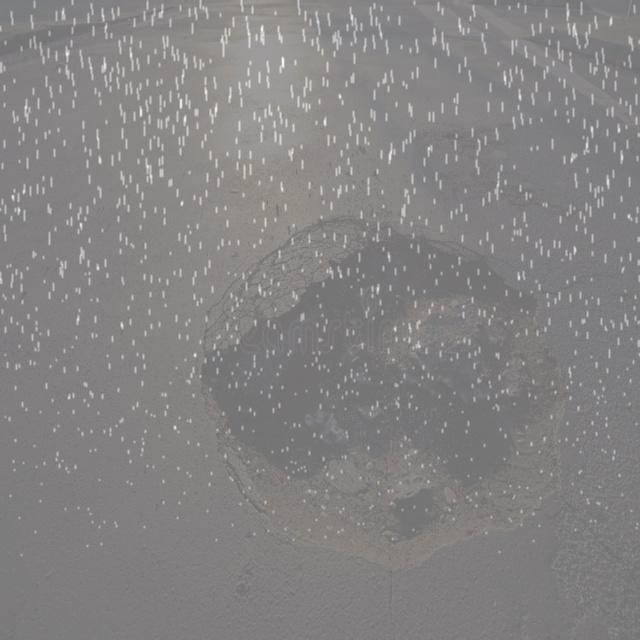Pothole: (178, 209, 600, 593)
